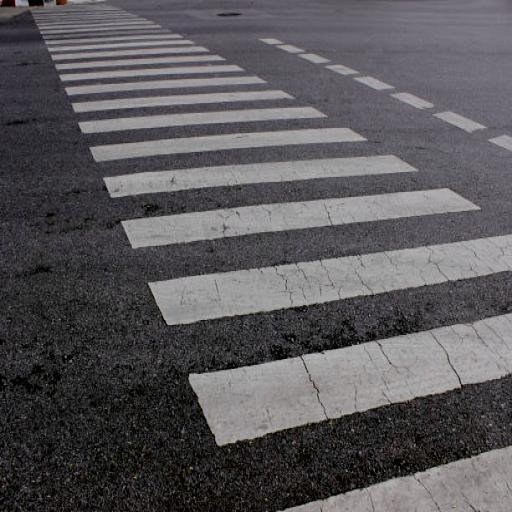crosswalk: (86, 146, 494, 254)
